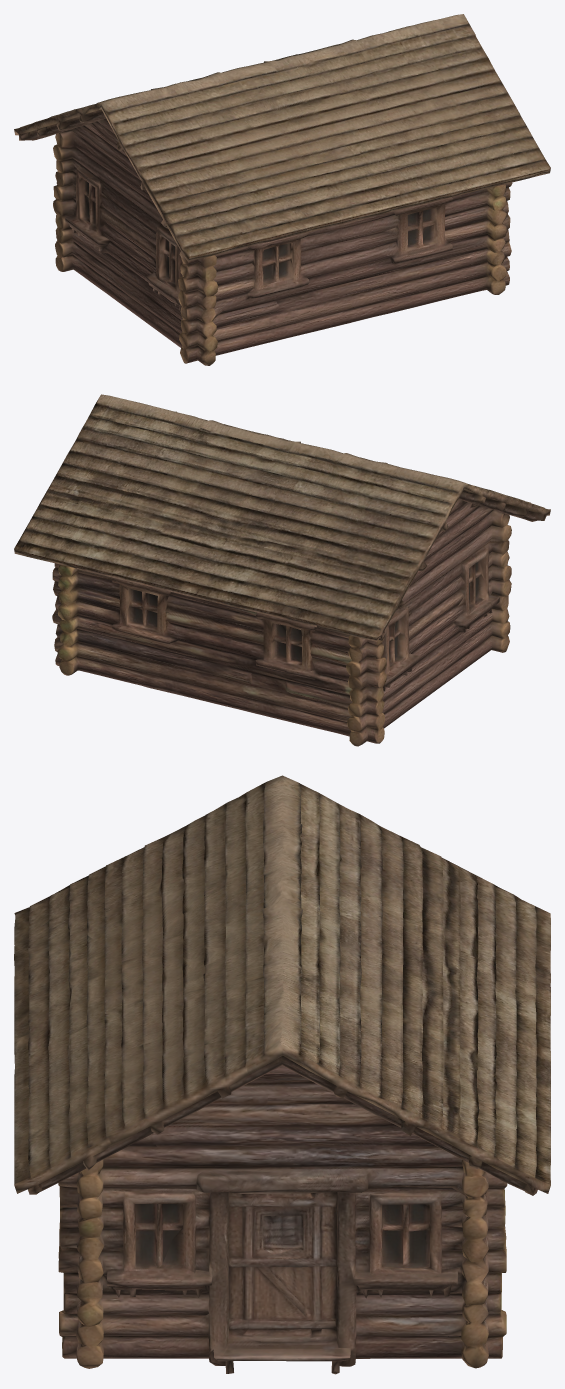
The model's file is rustic_wooden_log_cabin_-_game_asset.glb.
The picture shows the model from 3 angles, top to bottom: view 1: azimuth 30°, elevation 25°; view 2: azimuth 150°, elevation 25°; view 3: azimuth 270°, elevation 25°; orthographic projection. The views are drawn at different scales.
Parts seen in each view (by area): view 1: tripo_node_f522162b-2a8f-4baa-b916-aea1f0fad530_0; view 2: tripo_node_f522162b-2a8f-4baa-b916-aea1f0fad530_0; view 3: tripo_node_f522162b-2a8f-4baa-b916-aea1f0fad530_0.
Boxes of the visible parts, bbox=[...] form: tripo_node_f522162b-2a8f-4baa-b916-aea1f0fad530_0: bbox=[14, 14, 550, 365]; tripo_node_f522162b-2a8f-4baa-b916-aea1f0fad530_0: bbox=[14, 394, 550, 746]; tripo_node_f522162b-2a8f-4baa-b916-aea1f0fad530_0: bbox=[14, 775, 550, 1374].
Bounding box in the file's own units: 1 × 0.5788 × 0.8219.
Materials: 1 (1 with a texture image).
